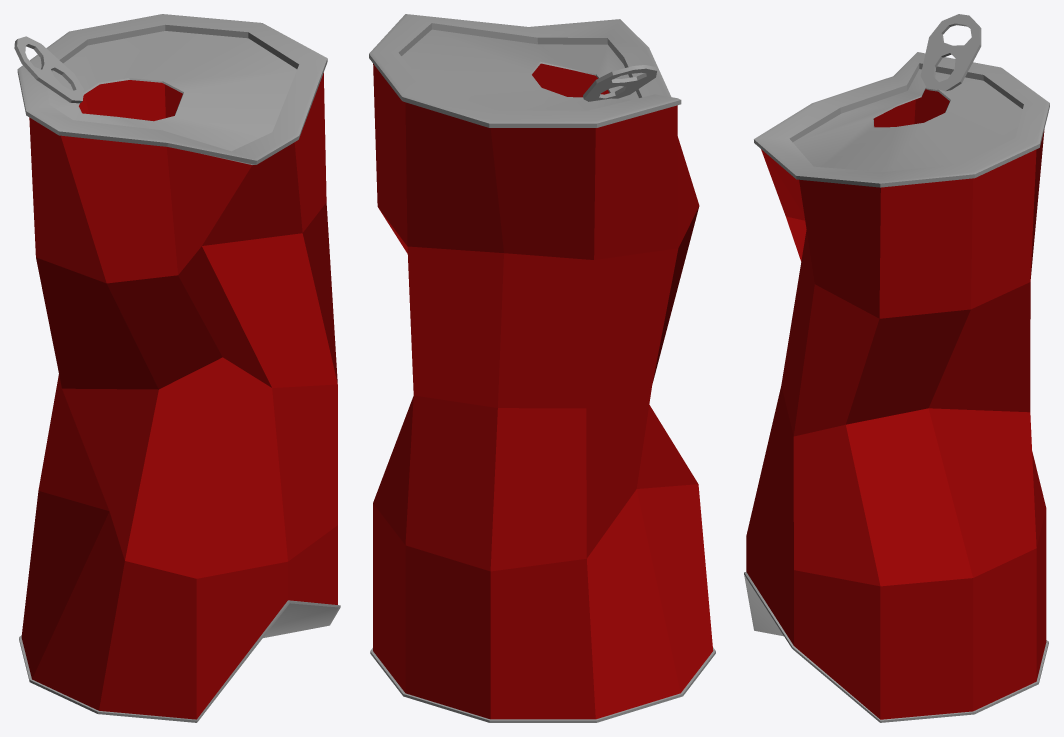
The model's file is CanSquashed01.fbx.
The picture shows the model from 3 angles, left to right: view 1: azimuth 30°, elevation 25°; view 2: azimuth 150°, elevation 25°; view 3: azimuth 270°, elevation 25°; orthographic projection. The views are drawn at different scales.
Parts seen in each view (by area): view 1: CanSquashed01; view 2: CanSquashed01; view 3: CanSquashed01.
Part boxes in pixels (box(x1,y1,x2,y2)): CanSquashed01: box(14, 14, 340, 722); CanSquashed01: box(369, 14, 715, 722); CanSquashed01: box(744, 14, 1049, 722).
Size of the model in its own units: 11.86 by 24.62 by 11.67.
